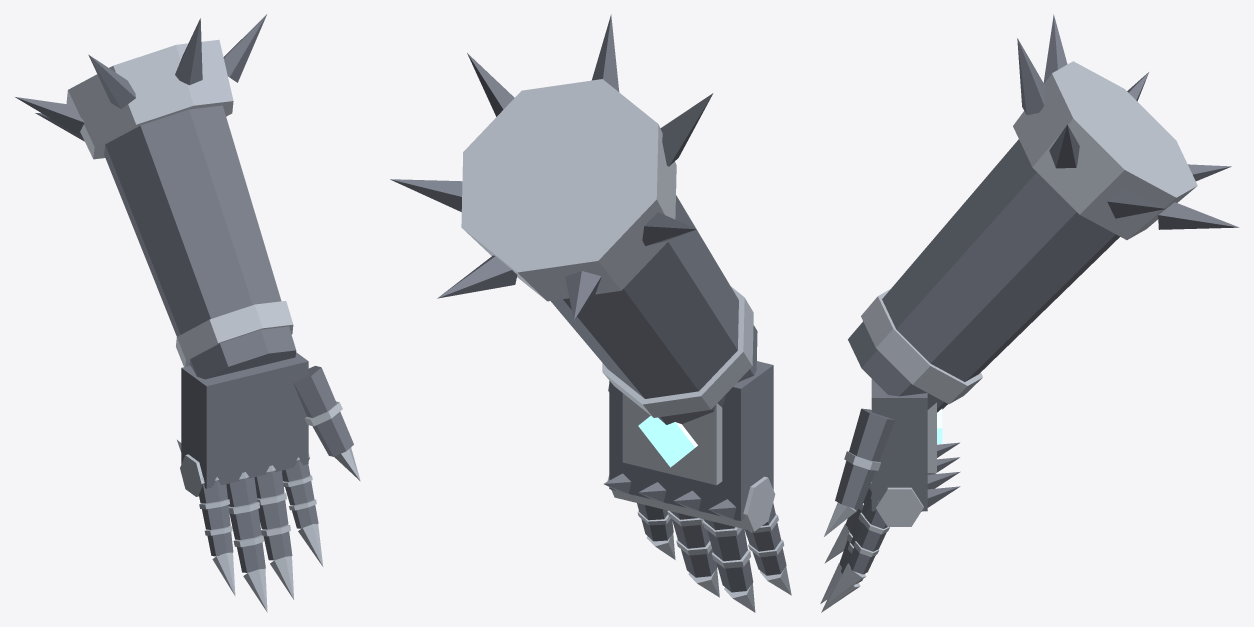
File: gauntlet.glb
3 views of the same model, side by side, from view 1: azimuth 30°, elevation 25°; view 2: azimuth 150°, elevation 25°; view 3: azimuth 270°, elevation 25° (orthographic). The views are drawn at different scales.
Parts seen in each view (by area): view 1: Gauntlet; view 2: Gauntlet; view 3: Gauntlet.
Part boxes in pixels (x1,y1,x2,y2): Gauntlet: (15, 14, 360, 612); Gauntlet: (390, 14, 791, 612); Gauntlet: (820, 14, 1239, 612).
Bounding box in the file's own units: 0.2216 × 0.4806 × 0.3159.
